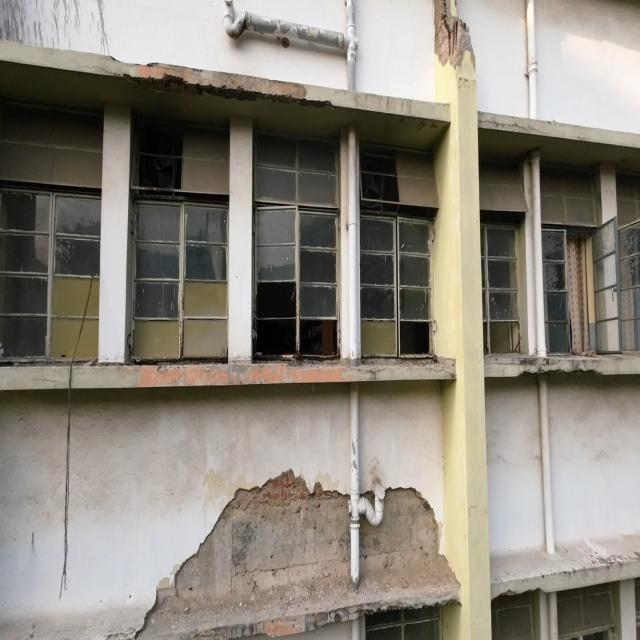Corrosion stain: (120, 363, 382, 388)
Incomplete Plaster Work: (140, 471, 459, 638)
Spalling: (434, 0, 474, 68)
pollution -moisture induced blackening: (116, 60, 306, 99), (494, 357, 604, 376)
